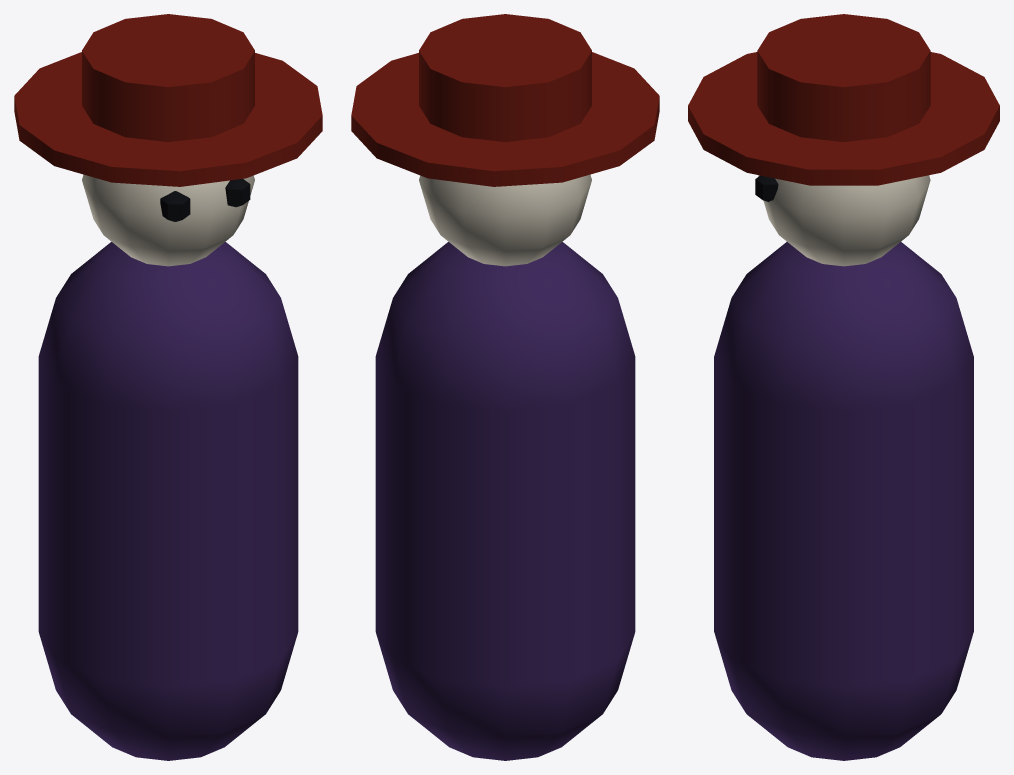
Rendered from buyer_c.glb.
3 views of the same model, side by side, from view 1: azimuth 30°, elevation 25°; view 2: azimuth 150°, elevation 25°; view 3: azimuth 270°, elevation 25° (orthographic).
Parts seen in each view (by area): view 1: buyer_c; view 2: buyer_c; view 3: buyer_c.
Part boxes in pixels (<box>): buyer_c: <box>14,14,322,760</box>; buyer_c: <box>351,14,659,760</box>; buyer_c: <box>688,14,999,760</box>.
Bounding box in the file's own units: 0.7019 × 1.78 × 0.72.
